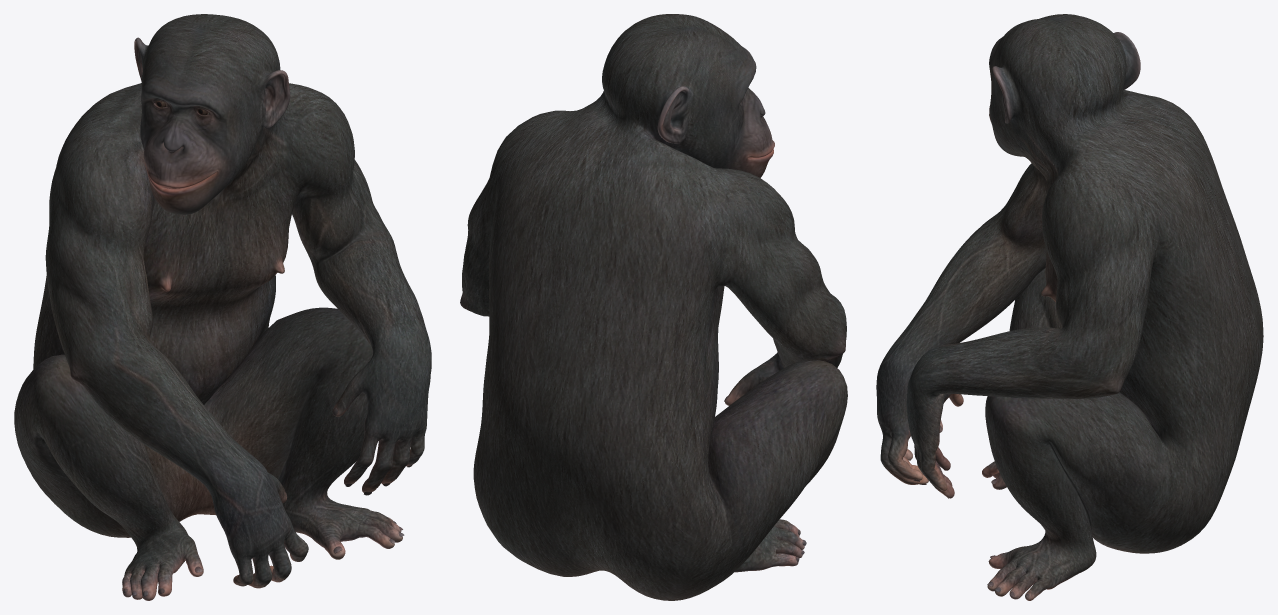
File: mrape1.glb
3 views of the same model, side by side, from view 1: azimuth 30°, elevation 25°; view 2: azimuth 150°, elevation 25°; view 3: azimuth 270°, elevation 25° (orthographic). The views are drawn at different scales.
Visible parts, largest first — view 1: node_id30_1; view 2: node_id30_1; view 3: node_id30_1.
Boxes of the visible parts, <box> form: node_id30_1: <box>14,14,431,600</box>; node_id30_1: <box>460,14,847,600</box>; node_id30_1: <box>876,14,1263,600</box>.
Size of the model in its own units: 0.3614 by 0.512 by 0.3584.
1 material, 1 textured.
